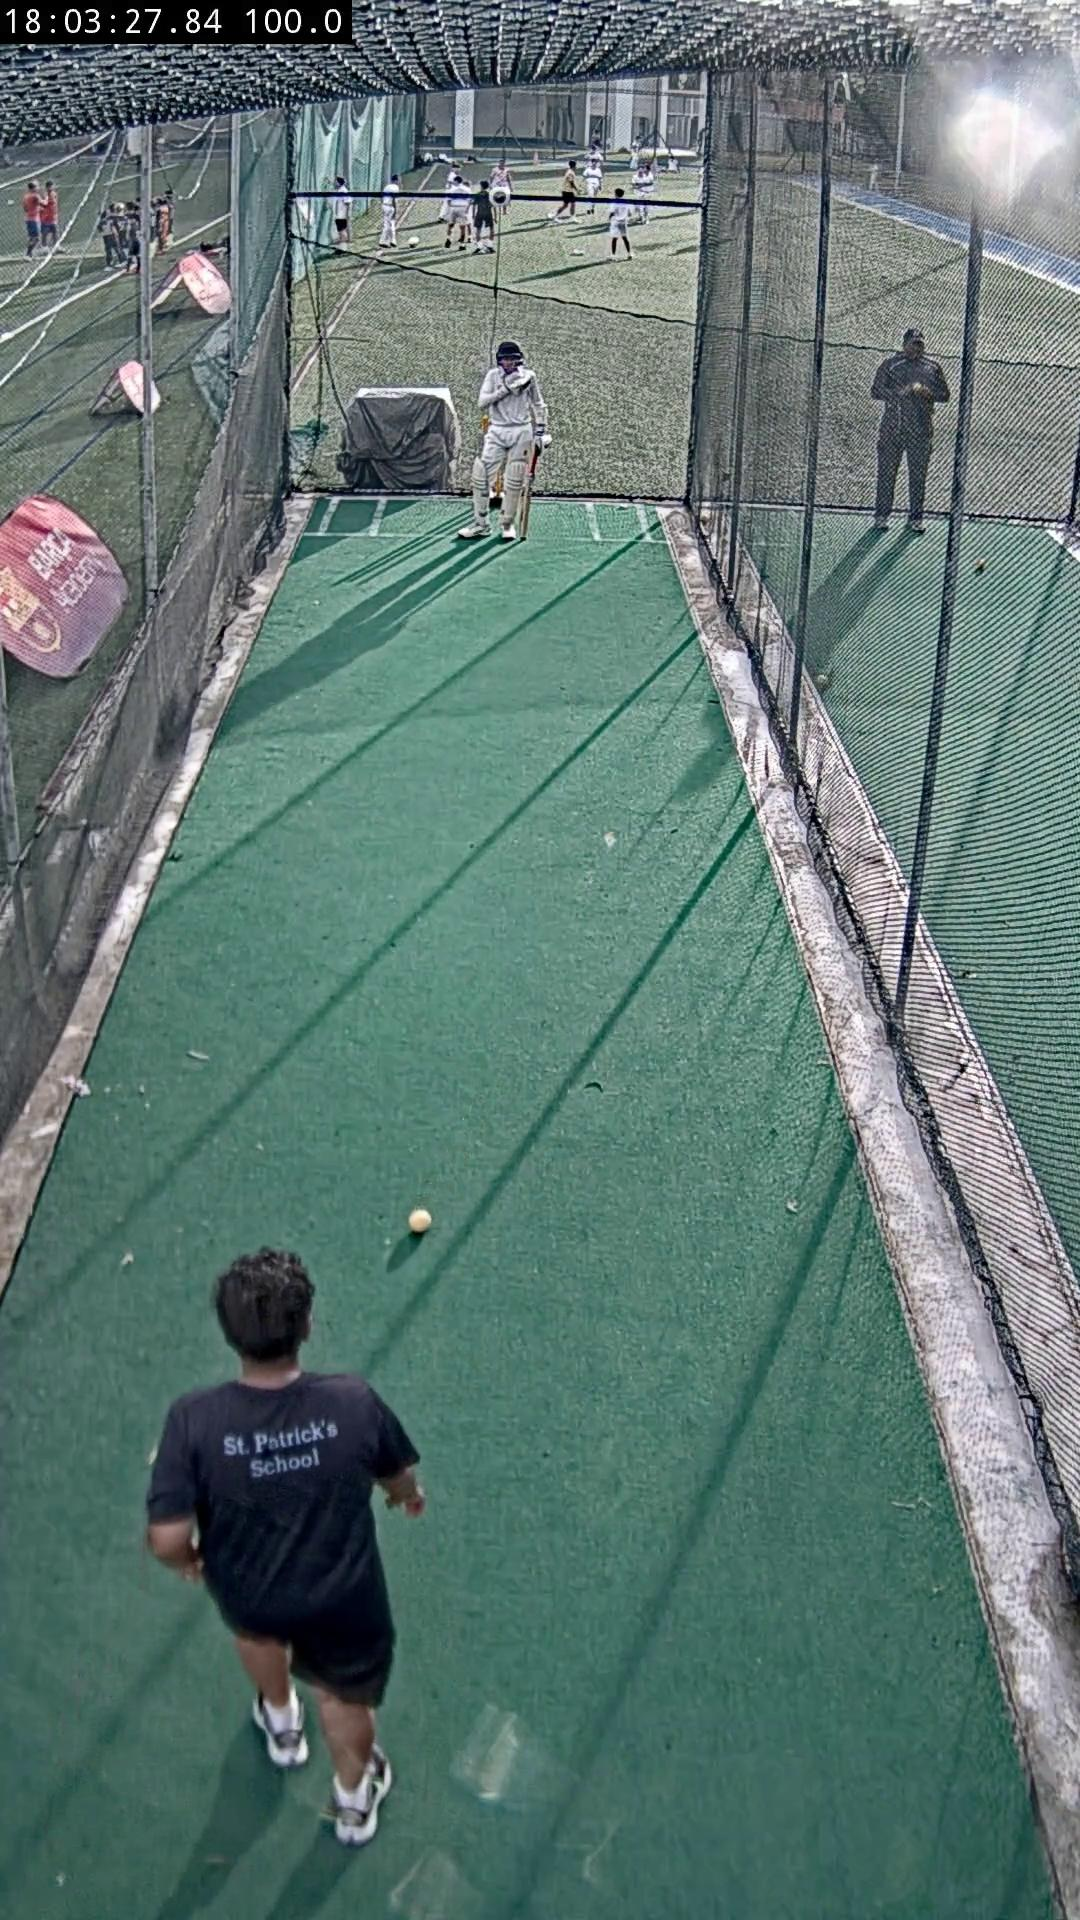ball: (409, 1208, 431, 1232)
bat: (521, 454, 537, 538)
gloves: (502, 368, 537, 394)
helmet: (495, 342, 525, 364)
pads: (498, 462, 525, 529), (472, 458, 492, 525)
